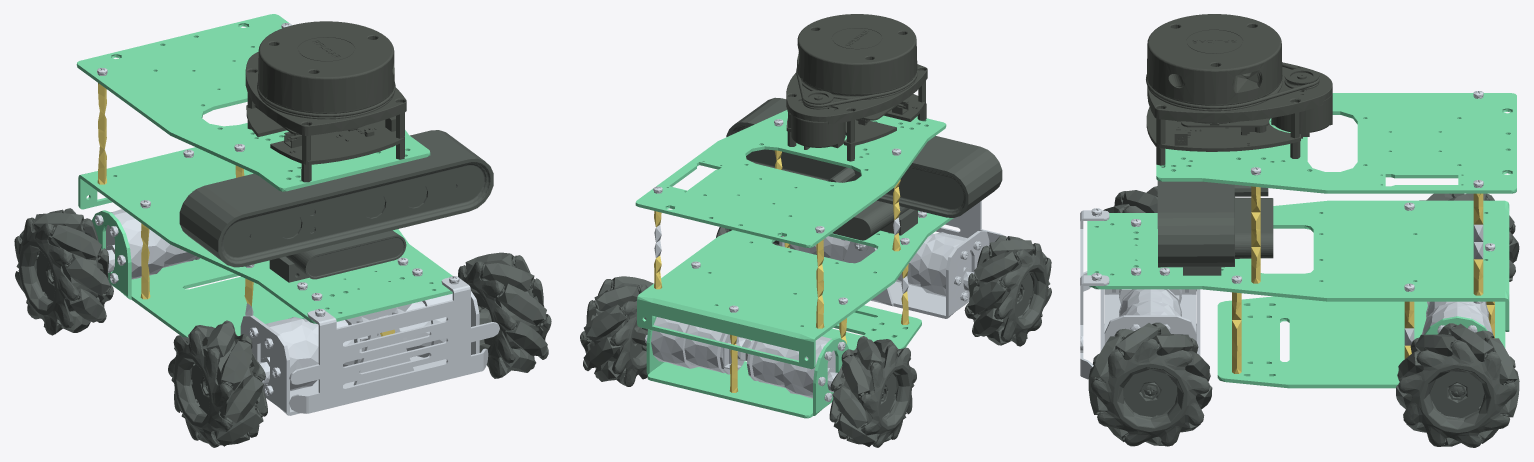
File: rosmaster_unified.glb
3 views of the same model, side by side, from view 1: azimuth 30°, elevation 25°; view 2: azimuth 150°, elevation 25°; view 3: azimuth 270°, elevation 25° (orthographic). The views are drawn at different scales.
Visible parts, largest first — view 1: rgbd_camera, lidar_sensor, plate_300, plate_256, part_204, wheel_27, wheel_117, plate_177, wheel_87, part_248, part_228, part_183 (+1 smaller); view 2: plate_256, plate_300, lidar_sensor, rgbd_camera, plate_177, wheel_117, wheel_27, wheel_57, part_248, part_174, part_183, part_228 (+2 smaller); view 3: plate_256, plate_300, lidar_sensor, plate_177, wheel_57, wheel_87, rgbd_camera, part_248, part_241, part_174, part_204, wheel_117 (+3 smaller).
Part boxes in pixels (x1,y1,x2,y2): rgbd_camera: (179, 130, 493, 282); lidar_sensor: (245, 21, 406, 182); plate_300: (76, 14, 430, 191); plate_256: (78, 147, 452, 323); part_204: (289, 277, 499, 413); wheel_27: (14, 208, 113, 335); wheel_117: (168, 320, 267, 447); plate_177: (92, 210, 304, 337); wheel_87: (458, 252, 551, 378); part_248: (240, 291, 479, 415); part_228: (259, 317, 361, 390); part_183: (106, 209, 199, 279); plate_256: (637, 210, 953, 369); plate_300: (635, 110, 946, 247); lidar_sensor: (786, 14, 927, 161); rgbd_camera: (726, 97, 1002, 240); plate_177: (646, 305, 921, 418); wheel_117: (964, 235, 1051, 346); wheel_27: (829, 336, 916, 447); wheel_57: (580, 276, 653, 386); part_248: (779, 231, 989, 318); part_174: (651, 317, 750, 374); part_183: (745, 336, 837, 398); part_228: (896, 232, 974, 297); plate_256: (1087, 200, 1509, 331); plate_300: (1156, 93, 1516, 193); lidar_sensor: (1146, 14, 1332, 165); plate_177: (1217, 296, 1505, 388); wheel_57: (1396, 323, 1519, 447); wheel_87: (1088, 322, 1212, 446); rgbd_camera: (1157, 167, 1273, 275); part_248: (1100, 289, 1200, 355); part_241: (1119, 289, 1181, 316); part_174: (1422, 301, 1492, 334); part_204: (1080, 210, 1109, 379); wheel_117: (1103, 186, 1196, 290).
Size of the model in its own units: 199 by 191 by 229.
